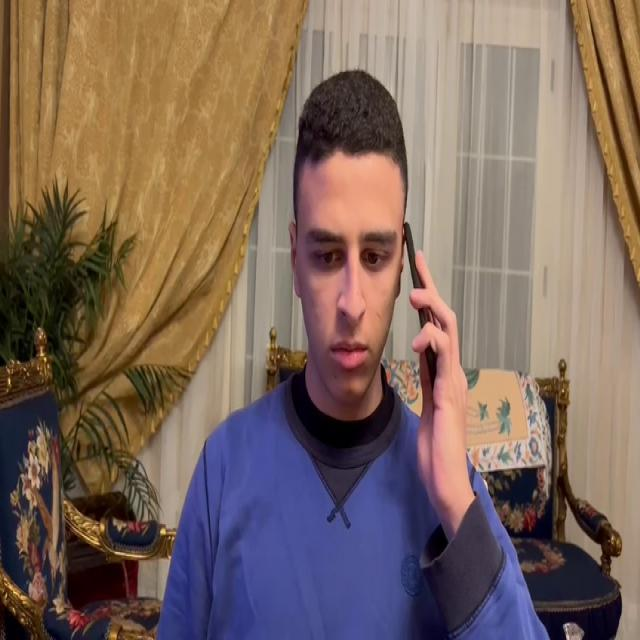phone: (400, 220, 442, 373)
